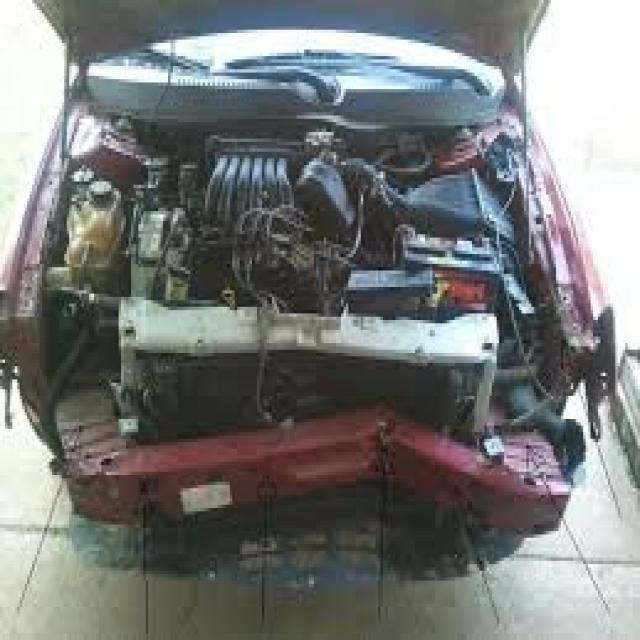severe: (1, 81, 587, 538)
